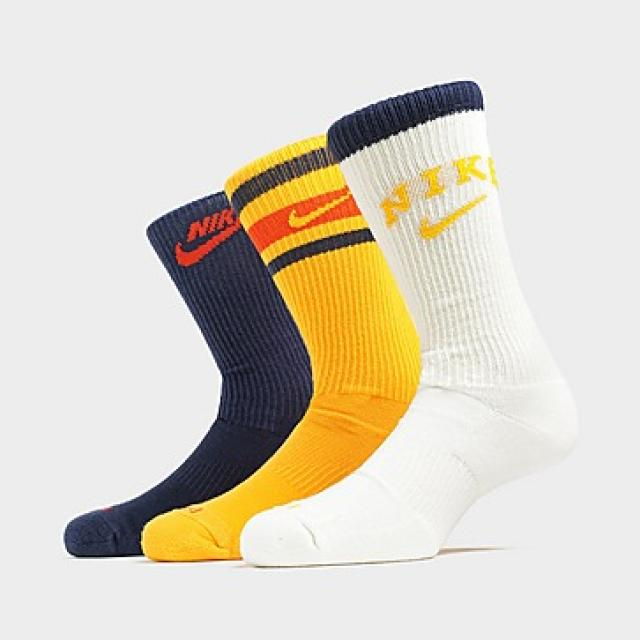sock: (238, 78, 578, 568), (138, 129, 422, 562), (62, 187, 312, 557)
